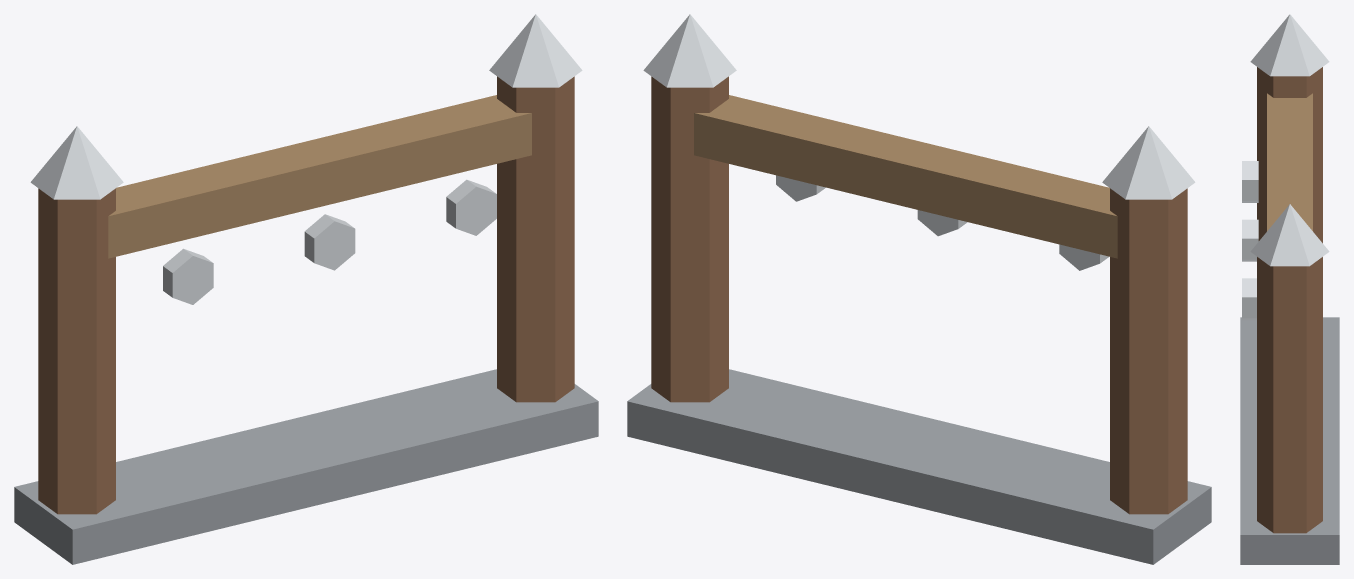
File: hitching_post.glb
3 views of the same model, side by side, from view 1: azimuth 30°, elevation 25°; view 2: azimuth 150°, elevation 25°; view 3: azimuth 270°, elevation 25° (orthographic). The views are drawn at different scales.
Parts seen in each view (by area): view 1: foot.001, rail, post_0, post_1, cap_0, cap_1, ring_1, ring_0, ring_2; view 2: foot.001, rail, post_0, post_1, cap_0, cap_1, ring_1, ring_0; view 3: post_1, foot.001, rail, post_0, cap_1, cap_0, ring_0, ring_1, ring_2.
Boxes of the visible parts, left/top/right/bottom form: foot.001: left=14, top=369, right=598, bottom=564; rail: left=108, top=95, right=531, bottom=258; post_0: left=38, top=188, right=115, bottom=514; post_1: left=497, top=76, right=574, bottom=402; cap_0: left=30, top=126, right=123, bottom=199; cap_1: left=489, top=14, right=582, bottom=87; ring_1: left=304, top=214, right=355, bottom=270; ring_0: left=163, top=248, right=213, bottom=304; ring_2: left=446, top=179, right=496, bottom=235; foot.001: left=627, top=369, right=1211, bottom=564; rail: left=694, top=95, right=1117, bottom=258; post_0: left=1110, top=188, right=1187, bottom=514; post_1: left=651, top=76, right=728, bottom=402; cap_0: left=1102, top=126, right=1195, bottom=199; cap_1: left=643, top=14, right=736, bottom=87; ring_1: left=917, top=210, right=967, bottom=236; ring_0: left=1059, top=244, right=1108, bottom=270; post_1: left=1257, top=257, right=1322, bottom=533; foot.001: left=1240, top=317, right=1339, bottom=564; rail: left=1267, top=93, right=1312, bottom=230; post_0: left=1257, top=67, right=1322, bottom=243; cap_1: left=1250, top=204, right=1329, bottom=266; cap_0: left=1250, top=14, right=1329, bottom=76; ring_0: left=1242, top=161, right=1258, bottom=202; ring_1: left=1242, top=219, right=1258, bottom=261; ring_2: left=1242, top=278, right=1256, bottom=320.
Size of the model in its own units: 1.57 by 1.16 by 0.3.
